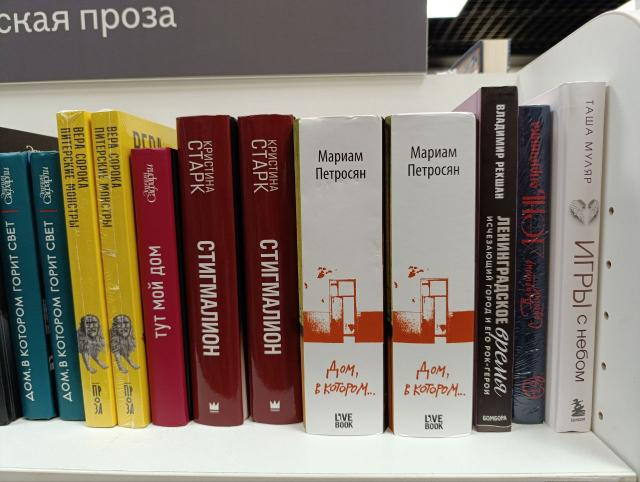book-s-spine: (392, 113, 476, 436), (299, 115, 383, 434), (176, 115, 244, 424), (238, 114, 304, 422), (56, 110, 113, 427), (556, 82, 606, 433), (91, 110, 144, 427), (131, 147, 190, 427), (0, 151, 56, 420), (30, 152, 85, 421), (477, 85, 518, 433), (512, 104, 550, 424)
